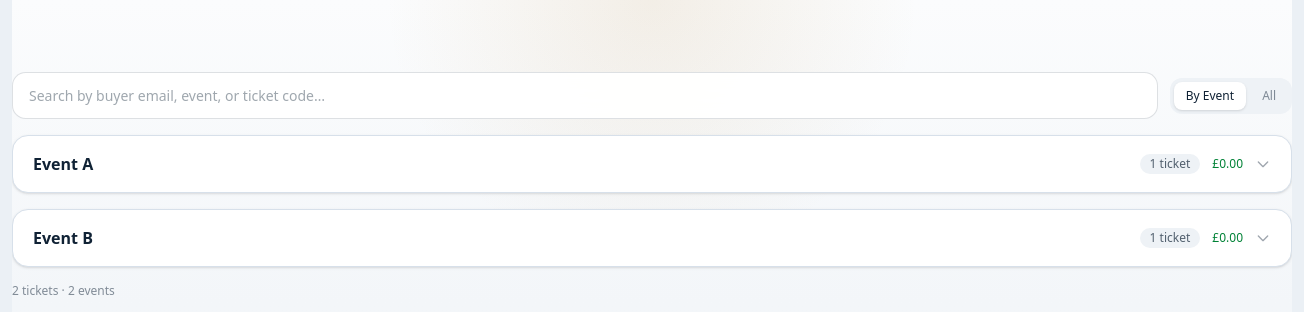
Scenario: TicketsTab › filters tickets by search
Type "alice" into the field with placeholder "Search by buyer email, event, or ticket code…" at {"x": 585, "y": 96}, box [12,72,1158,119]
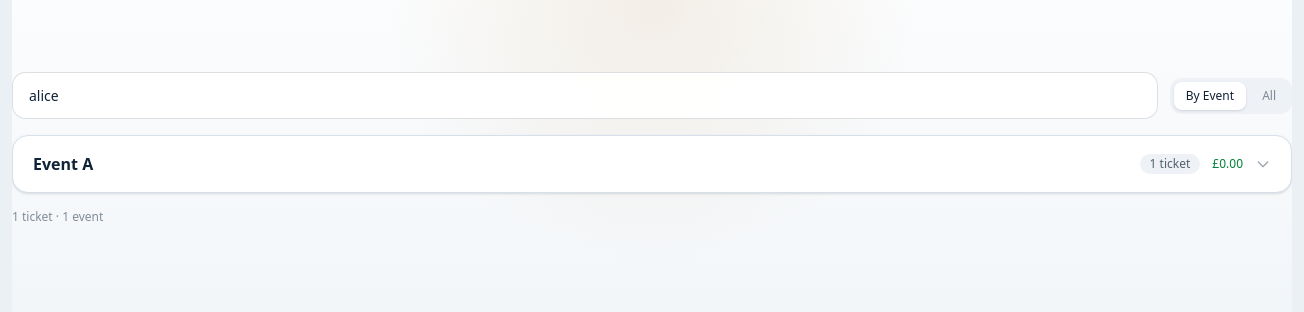
Check: the text "Event A" is shown, box [33,152,93,176]
Check: the button "Event B" is gone
